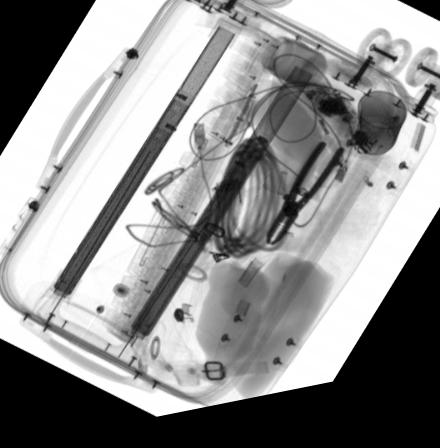Pliers: (264, 152, 344, 257)
